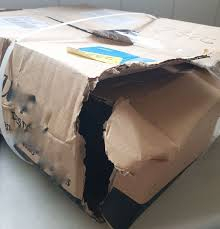damaged package: (69, 47, 216, 227), (1, 65, 54, 165)
